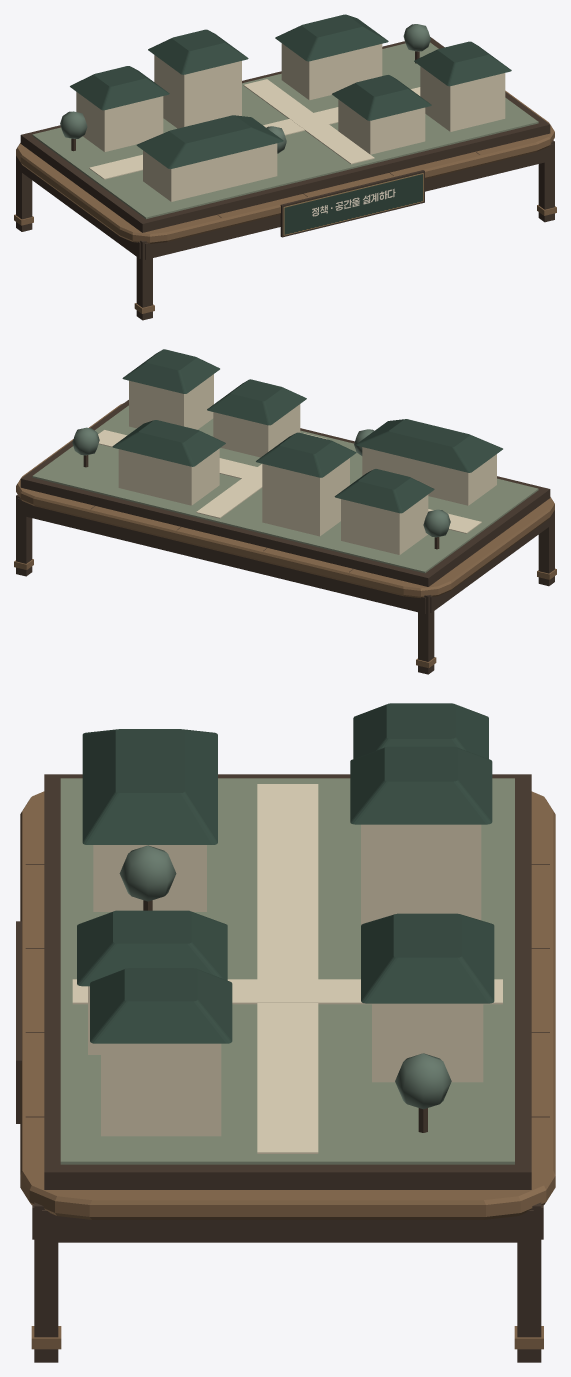
File: 07_Campus_Policy_Model.fbx
The picture shows the model from 3 angles, top to bottom: view 1: azimuth 30°, elevation 25°; view 2: azimuth 150°, elevation 25°; view 3: azimuth 270°, elevation 25°; orthographic projection. The views are drawn at different scales.
Visible parts, largest first — view 1: 07_Campus_Policy_Model__Structure, 07_Campus_Policy_Model; view 2: 07_Campus_Policy_Model__Structure, 07_Campus_Policy_Model; view 3: 07_Campus_Policy_Model__Structure, 07_Campus_Policy_Model.
Boxes of the visible parts, box(x1,y1,x2,y2) form: 07_Campus_Policy_Model__Structure: box(14, 24, 556, 320); 07_Campus_Policy_Model: box(70, 14, 511, 201); 07_Campus_Policy_Model__Structure: box(14, 400, 556, 674); 07_Campus_Policy_Model: box(112, 349, 502, 554); 07_Campus_Policy_Model__Structure: box(16, 774, 555, 1362); 07_Campus_Policy_Model: box(77, 703, 494, 1136).
Bounding box in the file's own units: 455 × 174 × 247.
Materials: 1 (1 with a texture image).
